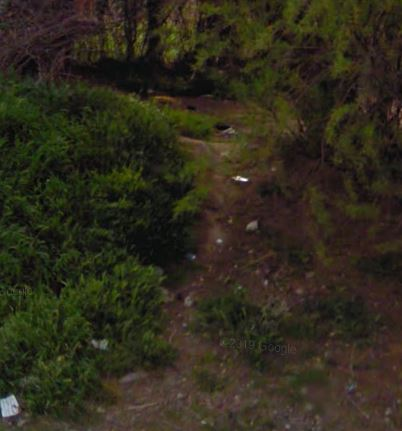trash: (1, 387, 20, 423), (225, 167, 255, 186), (89, 333, 112, 352), (243, 216, 265, 235)
